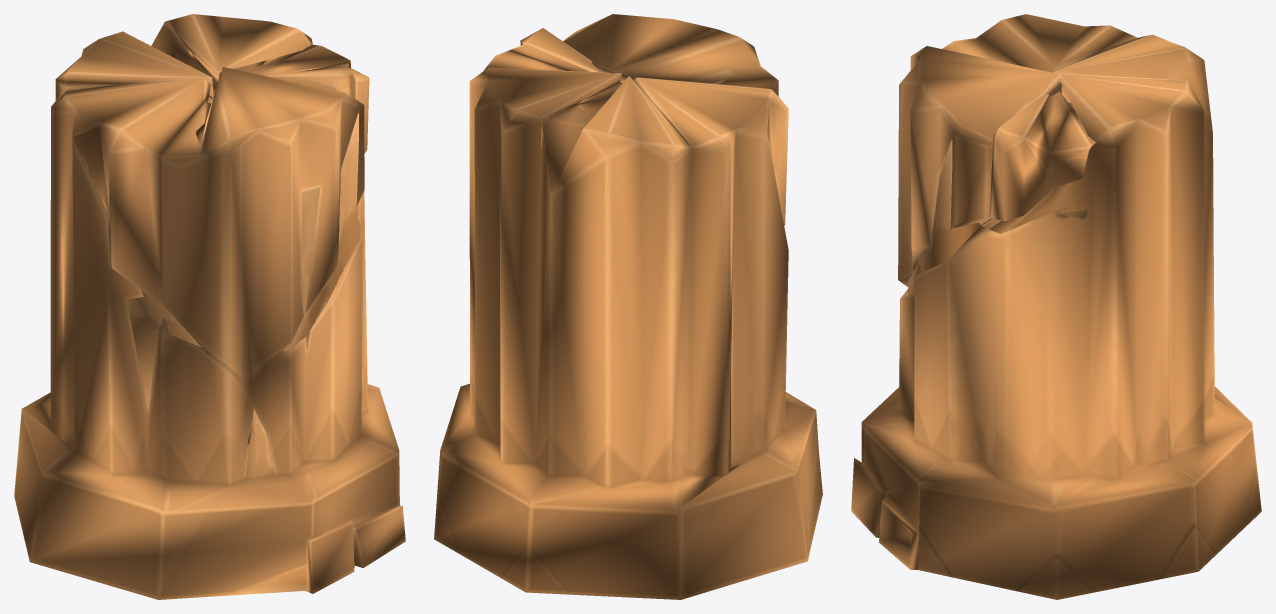
The model's file is Meshy_AI_Carved_Timber_Stump_0909063714_texture.fbx.
3 renders of one model, left to right at view 1: azimuth 30°, elevation 25°; view 2: azimuth 150°, elevation 25°; view 3: azimuth 270°, elevation 25°, orthographic.
Visible parts, largest first — view 1: Mesh_0; view 2: Mesh_0; view 3: Mesh_0.
Boxes of the visible parts, left/top/right/bottom form: Mesh_0: left=14, top=14, right=405, bottom=599; Mesh_0: left=434, top=14, right=822, bottom=599; Mesh_0: left=851, top=14, right=1261, bottom=599.
Bounding box in the file's own units: 84.96 × 100 × 83.79.
1 material, 1 textured.
